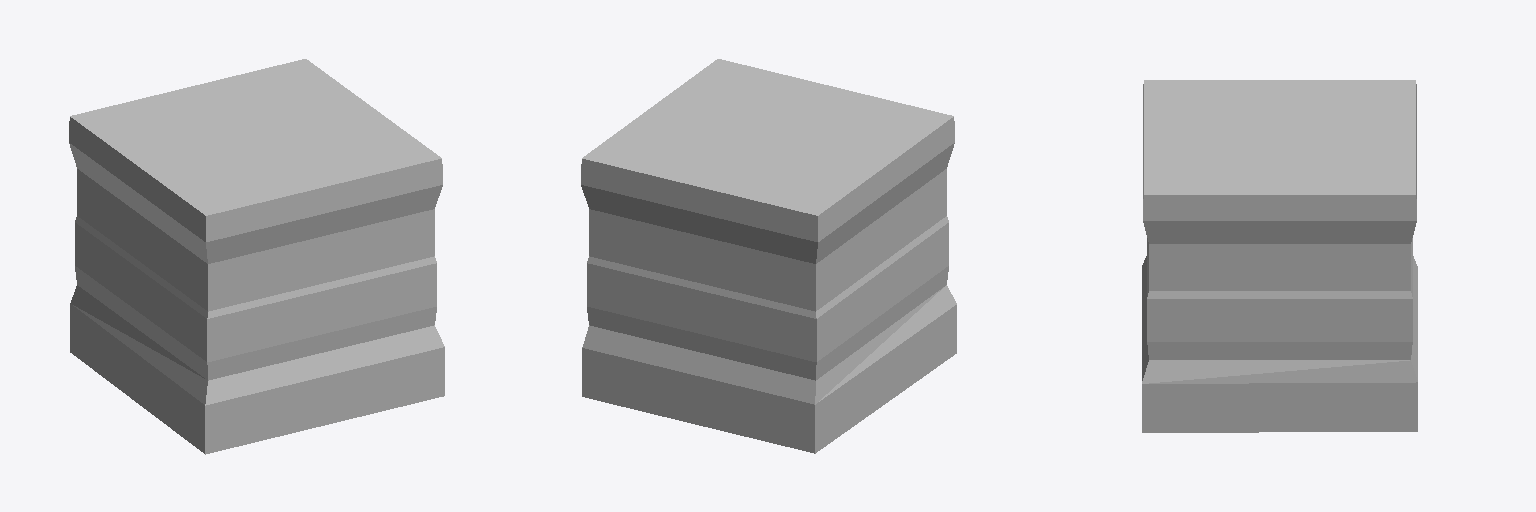
Rendered from flat.obj.
3 renders of one model, left to right at view 1: azimuth 30°, elevation 25°; view 2: azimuth 150°, elevation 25°; view 3: azimuth 270°, elevation 25°, orthographic.
Bounding box in the file's own units: 1.06 × 1 × 1.06.